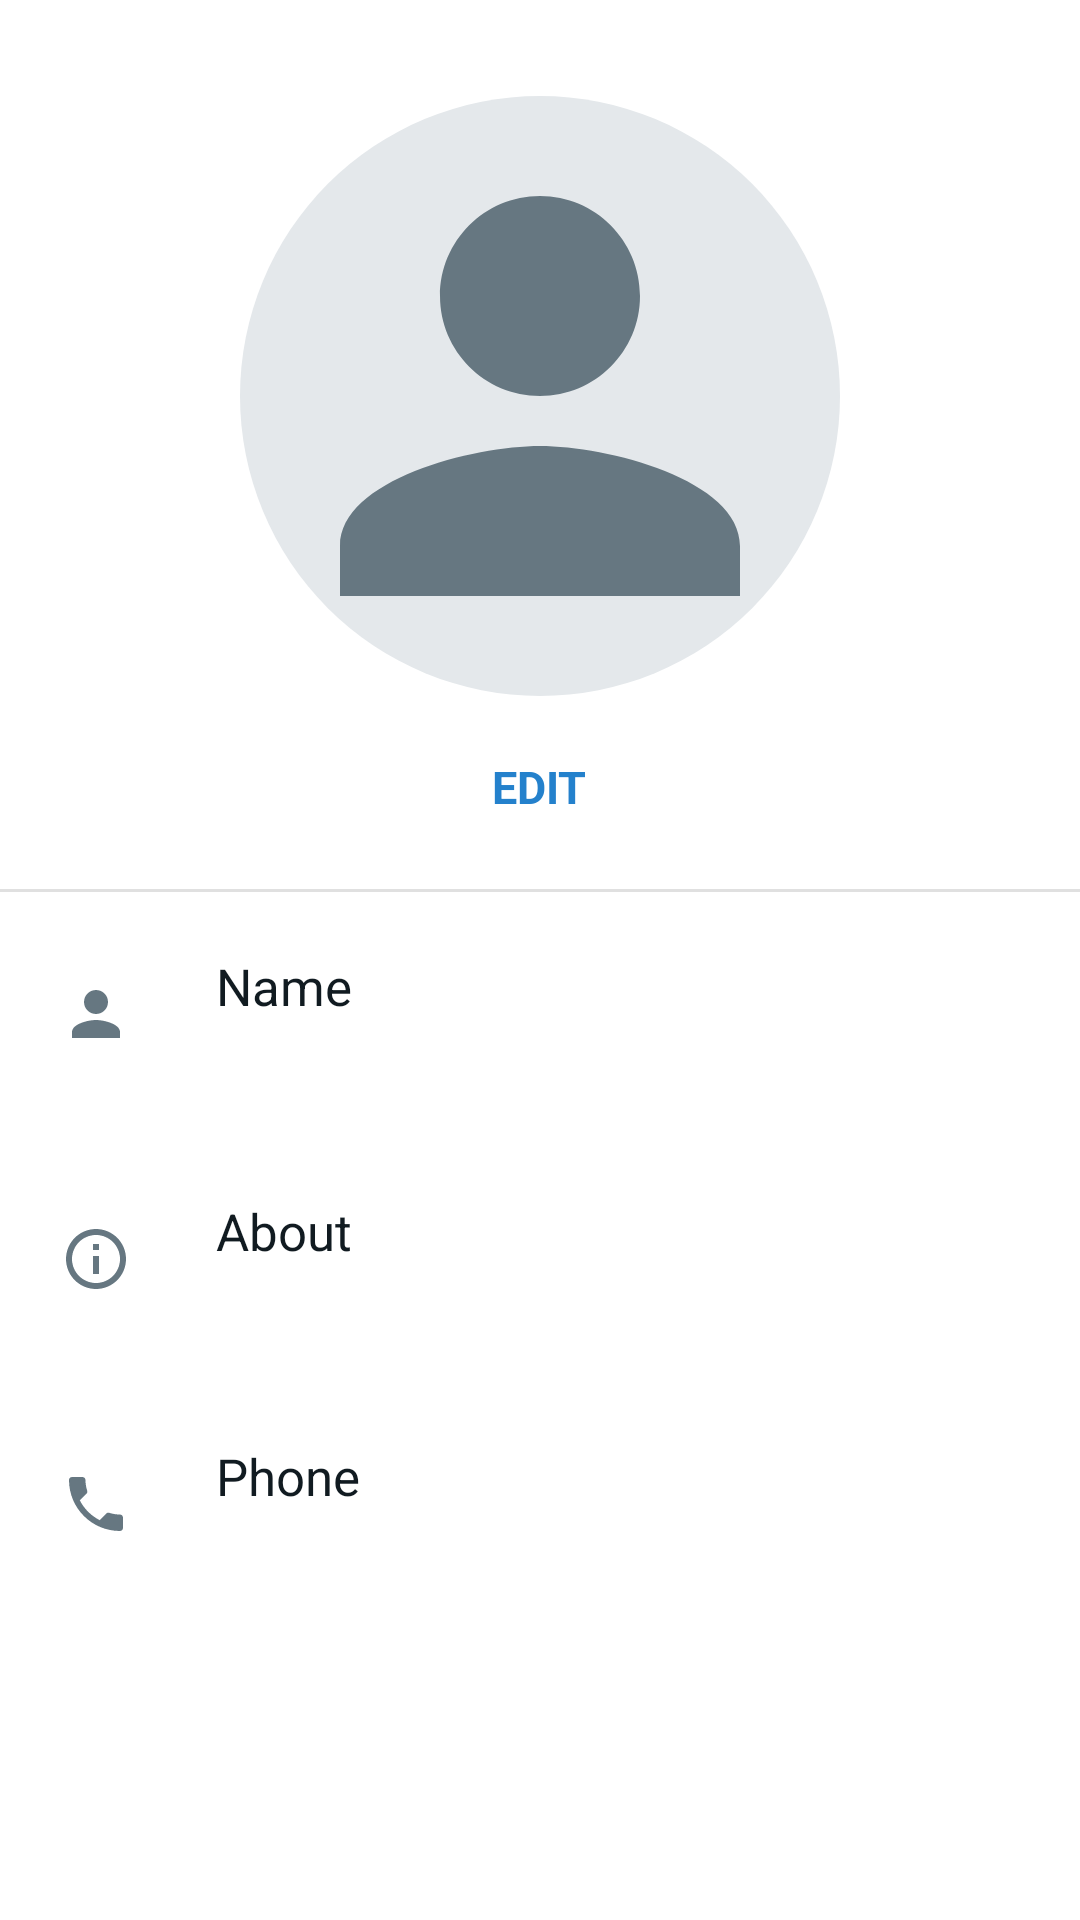

Point at icon controls on the screen. Image size 1080px×1920px, points as point (x, y).
info: point (96, 1259)
person: point (96, 1014)
